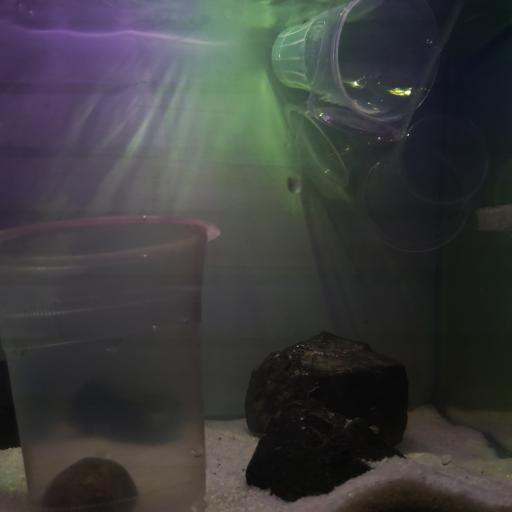plastic_cup: (0, 212, 221, 512), (305, 0, 466, 144), (270, 0, 442, 124), (355, 112, 490, 254), (284, 70, 412, 190)
